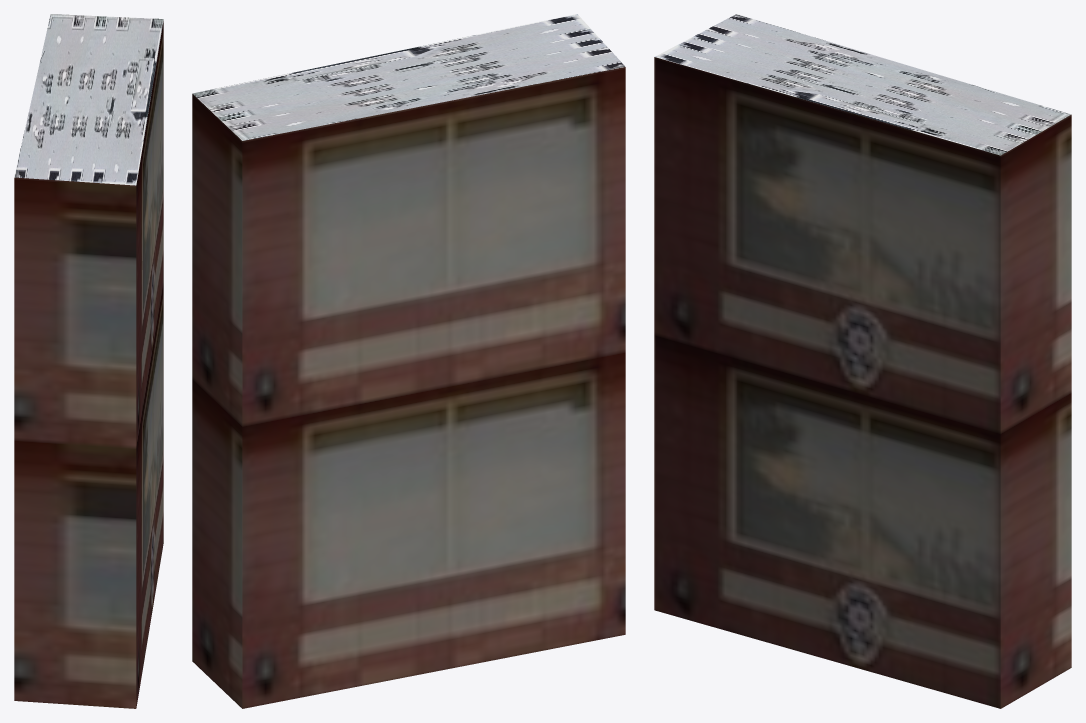
Rendered from ResTex__2178.fbx.
3 views of the same model, side by side, from view 1: azimuth 30°, elevation 25°; view 2: azimuth 150°, elevation 25°; view 3: azimuth 270°, elevation 25° (orthographic). The views are drawn at different scales.
Visible parts, largest first — view 1: CityEngineMaterial_13_m, CityEngineMaterial_4_m; view 2: CityEngineMaterial_13_m, CityEngineMaterial_4_m; view 3: CityEngineMaterial_13_m, CityEngineMaterial_4_m.
Part boxes in pixels (x1,y1,x2,y2): CityEngineMaterial_13_m: (14,21,163,708); CityEngineMaterial_4_m: (14,14,163,185); CityEngineMaterial_13_m: (192,67,625,708); CityEngineMaterial_4_m: (192,14,625,140); CityEngineMaterial_13_m: (654,57,1071,708); CityEngineMaterial_4_m: (655,14,1070,155).
Bounding box in the file's own units: 3.29 × 6 × 4.1.
Materials: 2 (2 with a texture image).
